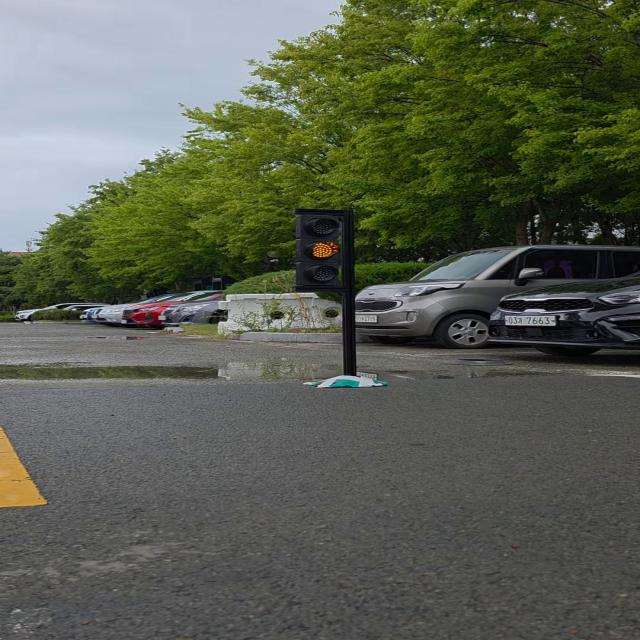yellow: (286, 203, 355, 301)
